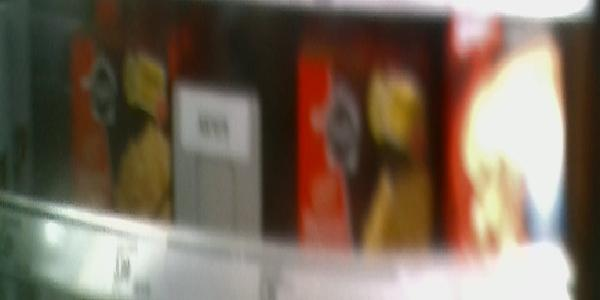pizza1: (297, 52, 440, 261), (62, 34, 171, 217)
